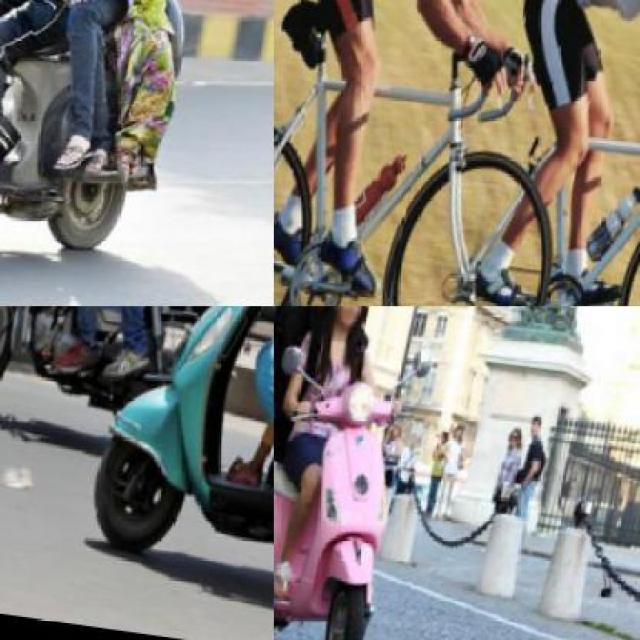Without Helmet: (323, 306, 375, 337)
